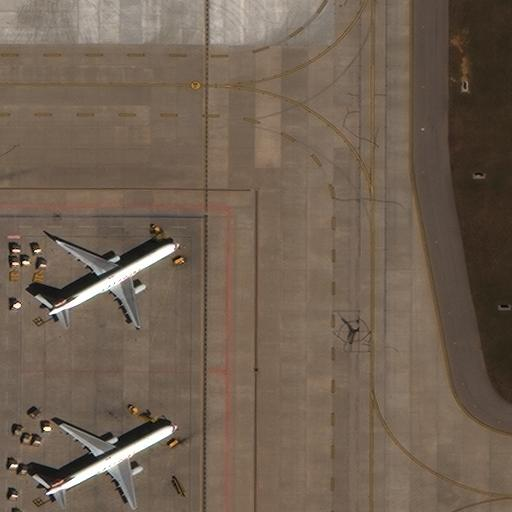Large Civil Transport: (46, 238, 178, 328), (45, 422, 177, 507)
